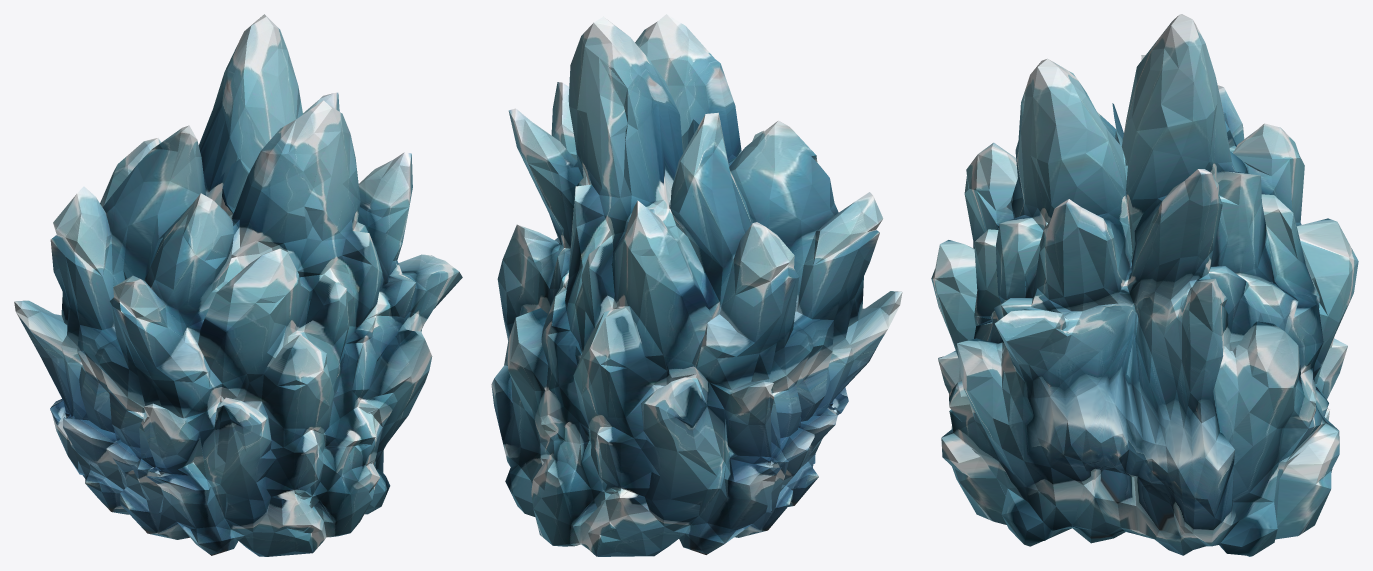
File: iceRock.fbx
The picture shows the model from 3 angles, left to right: view 1: azimuth 30°, elevation 25°; view 2: azimuth 150°, elevation 25°; view 3: azimuth 270°, elevation 25°; orthographic projection. The views are drawn at different scales.
Visible parts, largest first — view 1: IceCluser2; view 2: IceCluser2; view 3: IceCluser2.
Part boxes in pixels (x1,y1,x2,y2): IceCluser2: (14, 14, 462, 556); IceCluser2: (491, 14, 902, 556); IceCluser2: (931, 14, 1358, 556).
Size of the model in its own units: 69.36 by 95.24 by 70.43.
